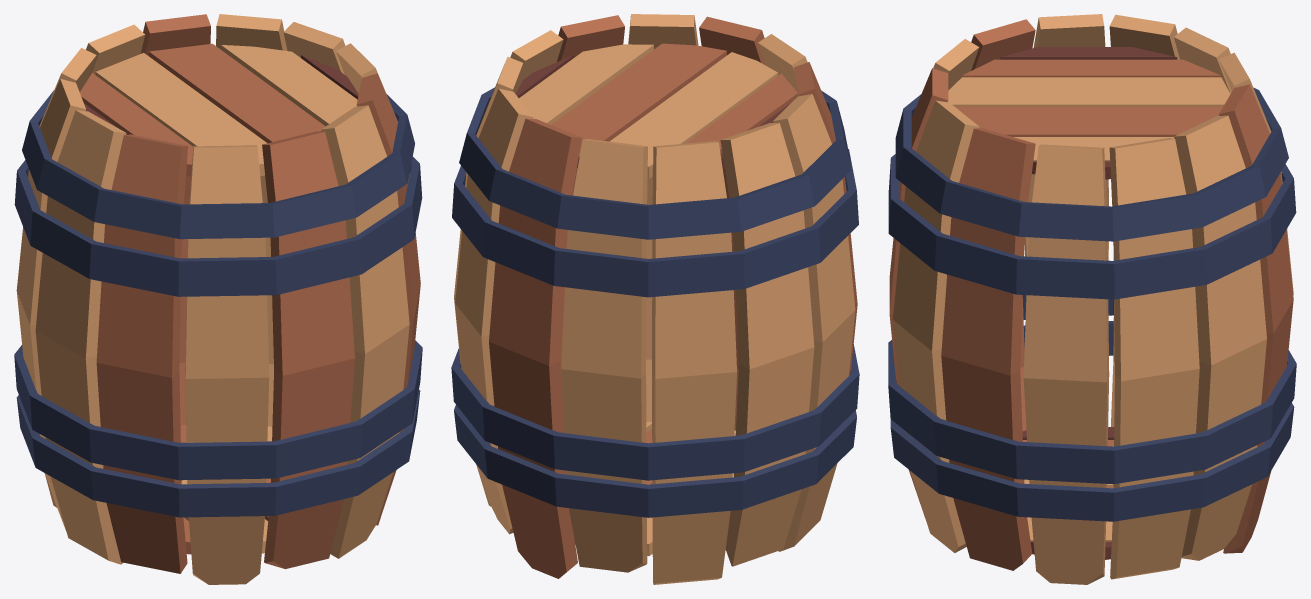
File: Barrel_02.fbx
The picture shows the model from 3 angles, left to right: view 1: azimuth 30°, elevation 25°; view 2: azimuth 150°, elevation 25°; view 3: azimuth 270°, elevation 25°; orthographic projection.
Parts seen in each view (by area): view 1: Barrel 03, Barrel 01 Lid, Barrel 01 Bottom; view 2: Barrel 03, Barrel 01 Lid; view 3: Barrel 03, Barrel 01 Lid, Barrel 01 Bottom.
Boxes of the visible parts, x1,y1,x2,y2 form: Barrel 03: [14, 14, 422, 584]; Barrel 01 Lid: [80, 43, 358, 176]; Barrel 01 Bottom: [180, 424, 272, 554]; Barrel 03: [451, 14, 859, 584]; Barrel 01 Lid: [515, 43, 797, 179]; Barrel 03: [888, 14, 1296, 584]; Barrel 01 Lid: [948, 47, 1230, 179]; Barrel 01 Bottom: [1022, 427, 1114, 559].
Bounding box in the file's own units: 96.04 × 115 × 95.34.
